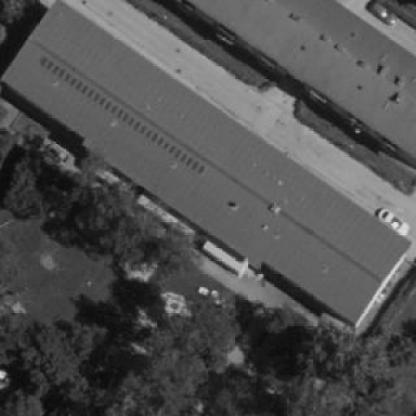solar-pv-panel: (40, 55, 208, 175)
